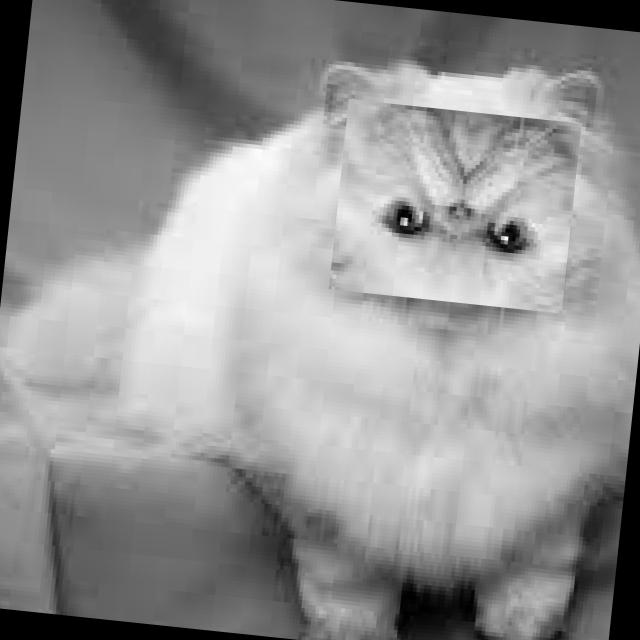iran: (328, 99, 581, 314)
